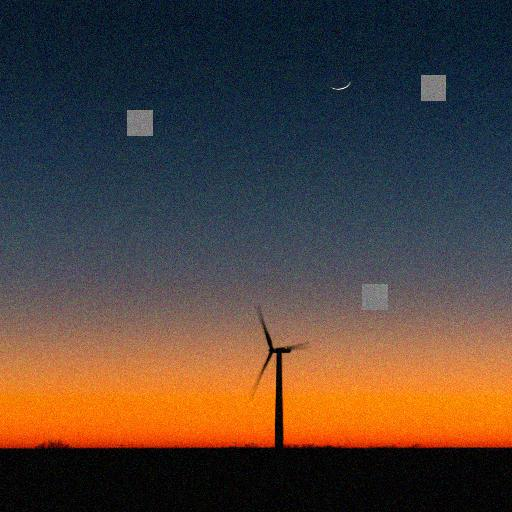wind turbine: (250, 304, 309, 445)
